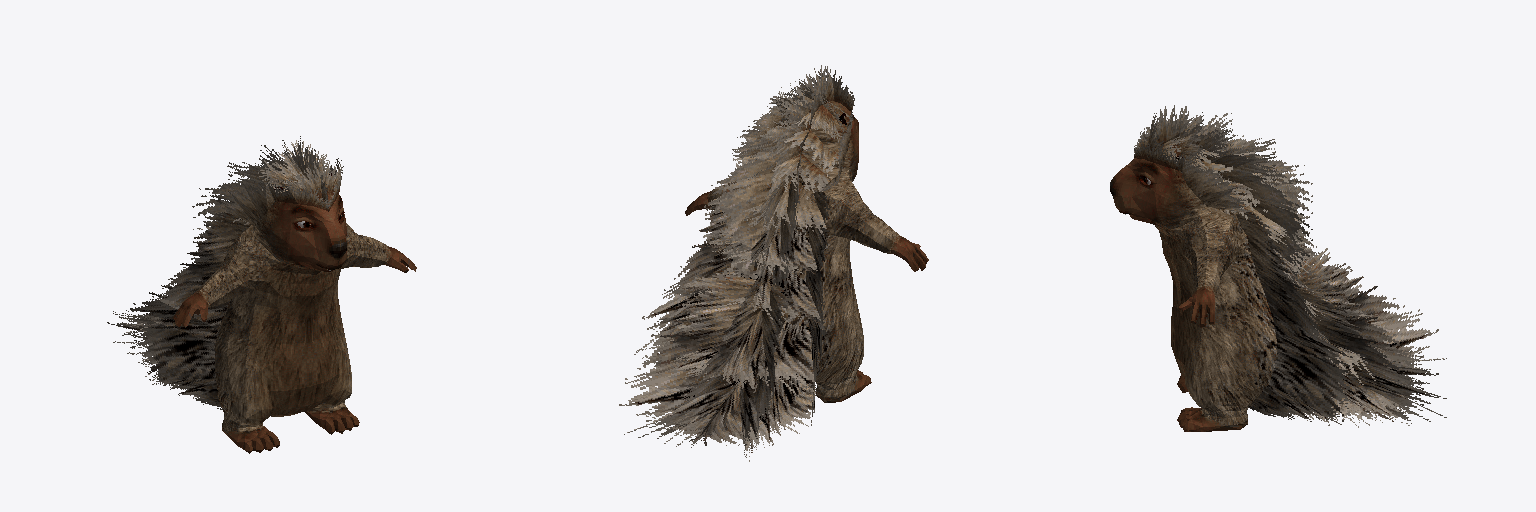
3 views of the same model, side by side, from view 1: azimuth 30°, elevation 25°; view 2: azimuth 150°, elevation 25°; view 3: azimuth 270°, elevation 25° (orthographic).
Parts seen in each view (by area): view 1: Mesh_0561.003_Mesh_0561Mesh.003; view 2: Mesh_0561.003_Mesh_0561Mesh.003; view 3: Mesh_0561.003_Mesh_0561Mesh.003.
Boxes of the visible parts, x1=… form: Mesh_0561.003_Mesh_0561Mesh.003: x1=107, y1=136, x2=416, y2=453; Mesh_0561.003_Mesh_0561Mesh.003: x1=619, y1=65, x2=928, y2=461; Mesh_0561.003_Mesh_0561Mesh.003: x1=1110, y1=105, x2=1446, y2=431.
Size of the model in its own units: 0.3915 by 0.4745 by 0.483.
Materials: 1 (1 with a texture image).